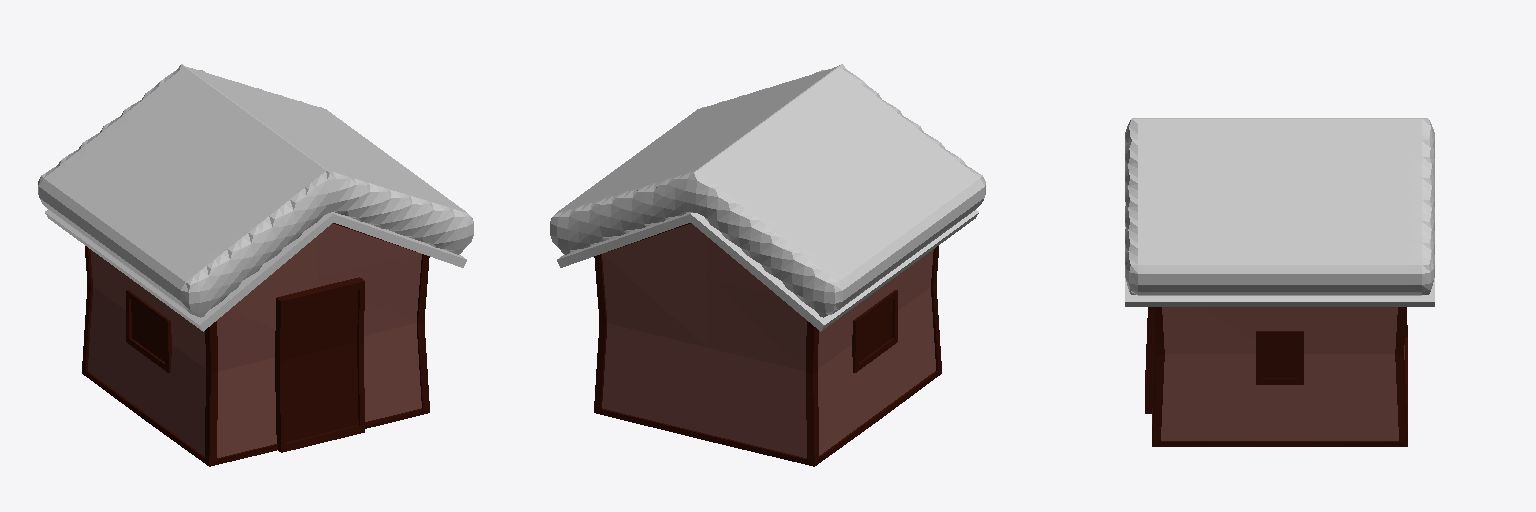
The model's file is House_1.obj.
The picture shows the model from 3 angles: view 1: azimuth 30°, elevation 25°; view 2: azimuth 150°, elevation 25°; view 3: azimuth 270°, elevation 25°; orthographic projection.
Parts seen in each view (by area): view 1: Rooftop_Snow_1, Base_Building_1, Door_1, Frame_1, Roof_1, window_1_1; view 2: Rooftop_Snow_1, Base_Building_1, Frame_1, Roof_1, window_1_1; view 3: Rooftop_Snow_1, Base_Building_1, Frame_1, Roof_1, Window_1_2, Door_1.
Boxes of the visible parts, <box> form: Rooftop_Snow_1: <box>38,64,473,317</box>; Base_Building_1: <box>88,223,421,457</box>; Door_1: <box>275,277,364,452</box>; Frame_1: <box>82,223,429,466</box>; Roof_1: <box>45,210,466,331</box>; window_1_1: <box>126,290,171,372</box>; Rooftop_Snow_1: <box>550,64,985,317</box>; Base_Building_1: <box>602,223,935,457</box>; Frame_1: <box>594,223,941,466</box>; Roof_1: <box>557,210,978,331</box>; window_1_1: <box>852,290,897,372</box>; Rooftop_Snow_1: <box>1125,118,1434,295</box>; Base_Building_1: <box>1161,307,1404,440</box>; Frame_1: <box>1152,307,1407,446</box>; Roof_1: <box>1125,202,1434,306</box>; Window_1_2: <box>1256,331,1303,384</box>; Door_1: <box>1145,307,1155,413</box>.
Bounding box in the file's own units: 1.29 × 1.15 × 1.18.